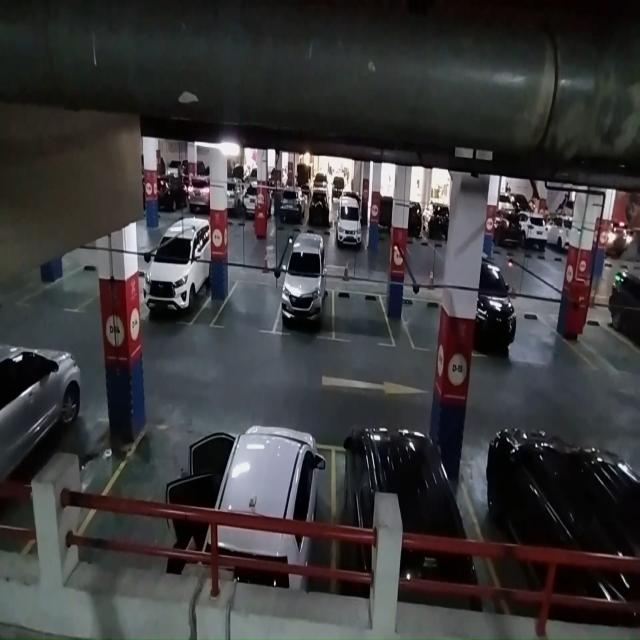empty: (93, 423, 218, 573), (210, 278, 281, 335), (332, 289, 396, 347), (401, 296, 442, 353)
occupied: (334, 430, 482, 607), (205, 426, 335, 588), (143, 226, 211, 326), (274, 251, 334, 341)
